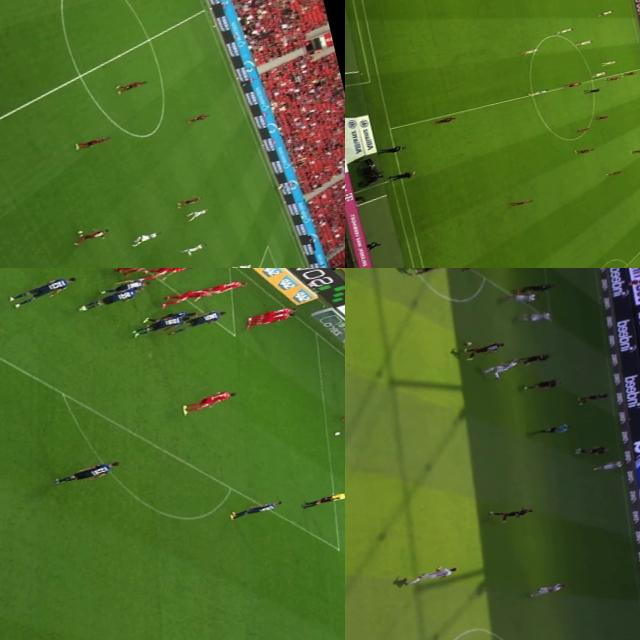ball: (330, 427, 345, 436), (462, 338, 474, 346), (74, 227, 85, 233), (568, 80, 577, 86)
player: (1, 270, 81, 308), (50, 456, 127, 488), (178, 385, 240, 414), (401, 560, 462, 586), (173, 304, 229, 332), (224, 496, 283, 520), (133, 312, 187, 338), (84, 286, 138, 311), (476, 355, 524, 381), (486, 500, 536, 524), (458, 337, 508, 360), (200, 276, 250, 298), (159, 285, 211, 306), (100, 276, 149, 297), (146, 306, 197, 325), (498, 286, 539, 308), (247, 308, 300, 325), (514, 305, 555, 325), (572, 438, 610, 459), (514, 278, 556, 296), (256, 302, 300, 319), (520, 376, 563, 392), (528, 578, 566, 596), (574, 388, 611, 406), (73, 132, 112, 149), (518, 348, 554, 366), (590, 455, 626, 473), (74, 228, 110, 243), (182, 240, 212, 256), (129, 230, 161, 245), (116, 78, 150, 92), (146, 268, 191, 278), (175, 193, 204, 207), (405, 268, 452, 276), (184, 206, 212, 218), (186, 112, 212, 123), (111, 268, 163, 273), (335, 400, 345, 424), (574, 144, 596, 154), (434, 115, 455, 125), (511, 196, 532, 206), (231, 260, 256, 268), (592, 111, 612, 121), (572, 125, 593, 134), (604, 168, 626, 176), (526, 88, 548, 96), (572, 38, 594, 46), (562, 79, 582, 87), (554, 26, 574, 34), (620, 69, 637, 78), (520, 46, 538, 54), (590, 68, 608, 76), (600, 58, 618, 66), (604, 74, 620, 82), (598, 8, 614, 15), (629, 144, 640, 154)
